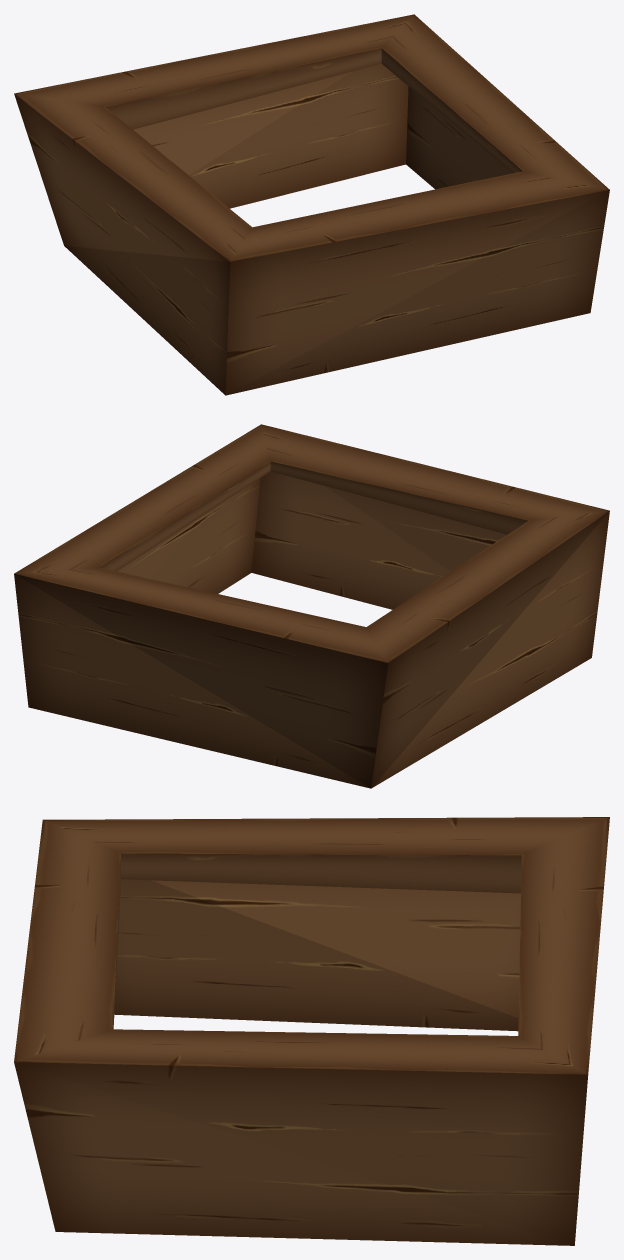
Rendered from TikiHutPanels.fbx.
3 renders of one model, top to bottom at view 1: azimuth 30°, elevation 25°; view 2: azimuth 150°, elevation 25°; view 3: azimuth 270°, elevation 25°, orthographic. The views are drawn at different scales.
Parts seen in each view (by area): view 1: TikiHut_Panels; view 2: TikiHut_Panels; view 3: TikiHut_Panels.
Part boxes in pixels (bbox=[...]): TikiHut_Panels: bbox=[14, 14, 609, 395]; TikiHut_Panels: bbox=[14, 424, 609, 788]; TikiHut_Panels: bbox=[14, 817, 609, 1245].
Size of the model in its own units: 165 by 58.9 by 167.
